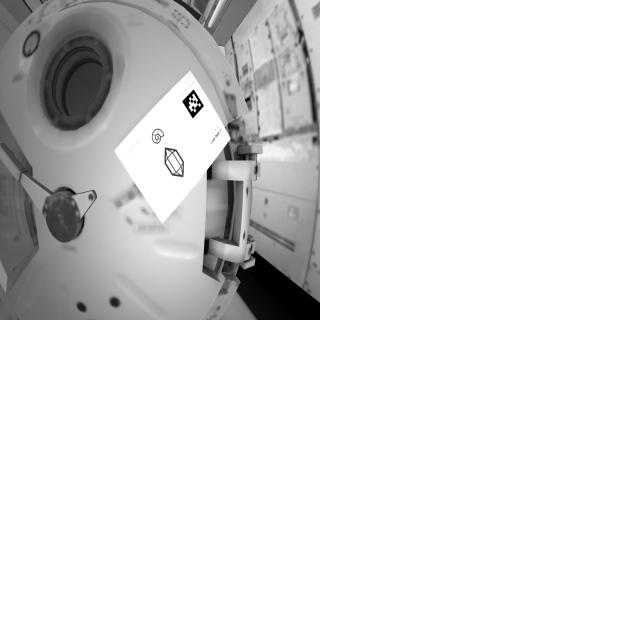crystal: (163, 144, 191, 185)
fossil: (145, 120, 170, 149)
